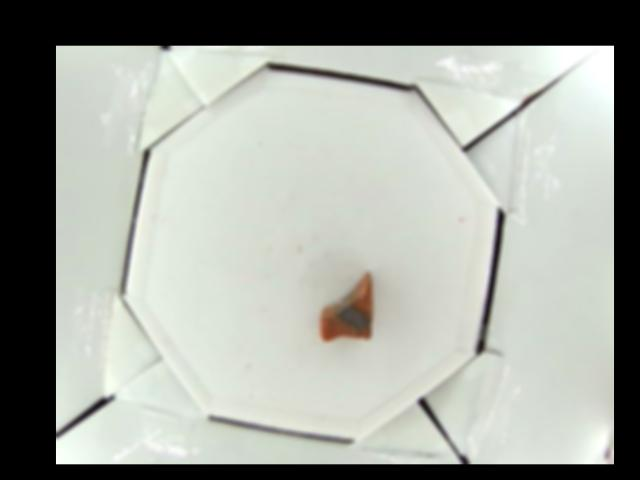Brisk: (319, 273, 372, 343)
